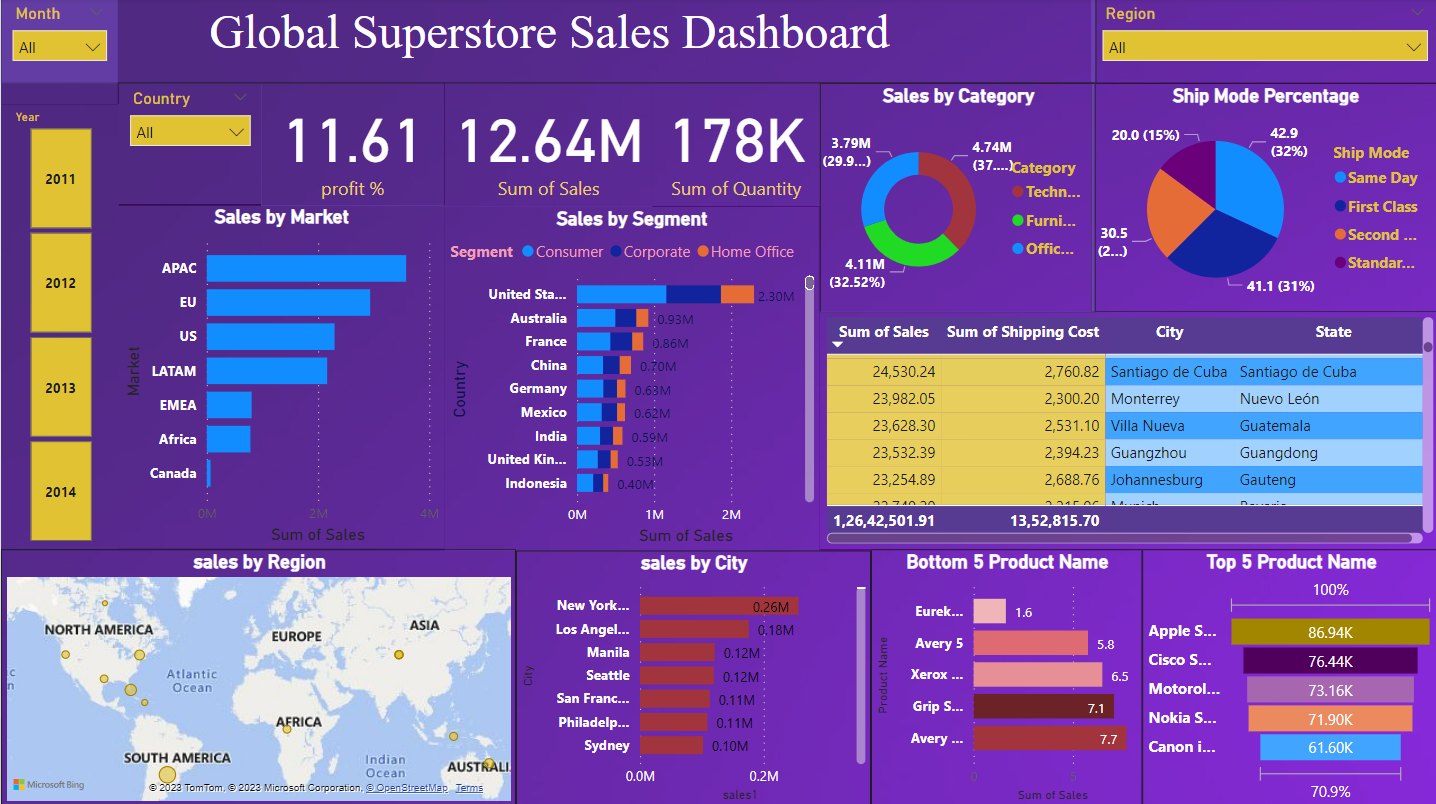

This screenshot's page, from the dashboard's own definition file:
{"tool":"powerbi","page":{"name":"Page 1","canvas":[1280,720],"ordinal":0},"visuals":[{"type":"barChart","title":" Sales by Market","fields":{"Y":["Sum(Global Superstore - Orders.Sales)"],"Category":["Global Superstore - Orders.Market"]},"box":[104.2,185.1,290.7,305.7],"z":0},{"type":"pieChart","title":"Ship Mode Percentage","fields":{"Category":["Global Superstore - Orders.Ship Mode"],"Y":["Avg(Global Superstore - Orders.Shipping Cost)"]},"box":[970.7,75.4,309.9,204.3],"z":1000},{"type":"barChart","title":" Sales by Segment","fields":{"Category":["Global Superstore - Orders.Country"],"Series":["Global Superstore - Orders.Segment"],"Y":["Sum(Global Superstore - Orders.Sales)"]},"box":[395.3,185.3,333.5,306.1],"z":2000},{"type":"slicer","fields":{"Values":["Global Superstore - Orders.Region"]},"box":[970.7,0,309.9,75.4],"z":3000},{"type":"card","fields":{"Values":["Global Superstore - Orders.profit %"]},"box":[231.7,75.4,163.2,109.7],"z":4000},{"type":"slicer","fields":{"Values":["Global Superstore - Orders.Year"]},"box":[0,94.6,104.6,396.2],"z":5000},{"type":"card","fields":{"Values":["Sum(Global Superstore - Orders.Sales)"]},"box":[395.1,75.7,184.7,110.2],"z":6000},{"type":"clusteredBarChart","title":"sales by City","fields":{"Category":["Global Superstore - Orders.City"],"Y":["Global Superstore - Orders.sales1"]},"box":[458.4,491.4,315.7,227.8],"z":7000},{"type":"funnel","title":"Top 5 Product Name","fields":{"Category":["Global Superstore - Orders.Product Name"],"Y":["Sum(Global Superstore - Orders.Sales)"]},"box":[1015.9,490.8,264.6,229],"z":8000},{"type":"barChart","title":"Bottom 5 Product Name","fields":{"Category":["Global Superstore - Orders.Product Name"],"Y":["Sum(Global Superstore - Orders.Sales)"]},"box":[774.6,490.8,241.3,229],"z":9000},{"type":"map","title":"sales by Region","fields":{"Size":["Global Superstore - Orders.sales1"],"Category":["Global Superstore - Orders.Region"]},"box":[0,490.8,458.5,228.1],"z":10000},{"type":"card","fields":{"Values":["Sum(Global Superstore - Orders.Quantity)"]},"box":[580,75.4,149.4,109.7],"z":11000},{"type":"donutChart","title":" Sales by Category","fields":{"Y":["Sum(Global Superstore - Orders.Sales)"],"Category":["Global Superstore - Orders.Category"]},"box":[728.8,75.5,245.7,204.5],"z":12000},{"type":"tableEx","fields":{"Values":["Sum(Global Superstore - Orders.Sales)","Sum(Global Superstore - Orders.Shipping Cost)","Global Superstore - Orders.City","Global Superstore - Orders.State"]},"box":[729.4,279.7,551.2,211.1],"z":13000},{"type":"slicer","fields":{"Values":["Global Superstore - Orders.Country"]},"box":[104.2,75.4,127.5,108.3],"z":14000},{"type":"textbox","box":[0,0,974.8,75.7],"z":15000},{"type":"slicer","fields":{"Values":["Global Superstore - Orders.Date Column"]},"box":[0,0,104.2,94.6],"z":16000}]}

Visuals, with their boxes in screenshot pixels (x1, y1, x2, y2), scaled from the page's 1280x720 canvas onto the 1436x804 screenshot:
" Sales by Market" barChart: detection(117, 207, 443, 548)
"Ship Mode Percentage" pieChart: detection(1089, 84, 1435, 312)
" Sales by Segment" barChart: detection(443, 207, 818, 549)
slicer - Global Superstore - Orders.Region: detection(1089, 0, 1435, 84)
card - Global Superstore - Orders.profit %: detection(260, 84, 443, 207)
slicer - Global Superstore - Orders.Year: detection(0, 106, 117, 548)
card - Sum(Global Superstore - Orders.Sales): detection(443, 85, 650, 208)
"sales by City" clusteredBarChart: detection(514, 549, 868, 803)
"Top 5 Product Name" funnel: detection(1140, 548, 1435, 803)
"Bottom 5 Product Name" barChart: detection(869, 548, 1140, 803)
"sales by Region" map: detection(0, 548, 514, 803)
card - Sum(Global Superstore - Orders.Quantity): detection(651, 84, 818, 207)
" Sales by Category" donutChart: detection(818, 84, 1093, 313)
tableEx - Sum(Global Superstore - Orders.Sales) x Sum(Global Superstore - Orders.Shipping Cost): detection(818, 312, 1435, 548)
slicer - Global Superstore - Orders.Country: detection(117, 84, 260, 205)
textbox: detection(0, 0, 1094, 85)
slicer - Global Superstore - Orders.Date Column: detection(0, 0, 117, 106)
